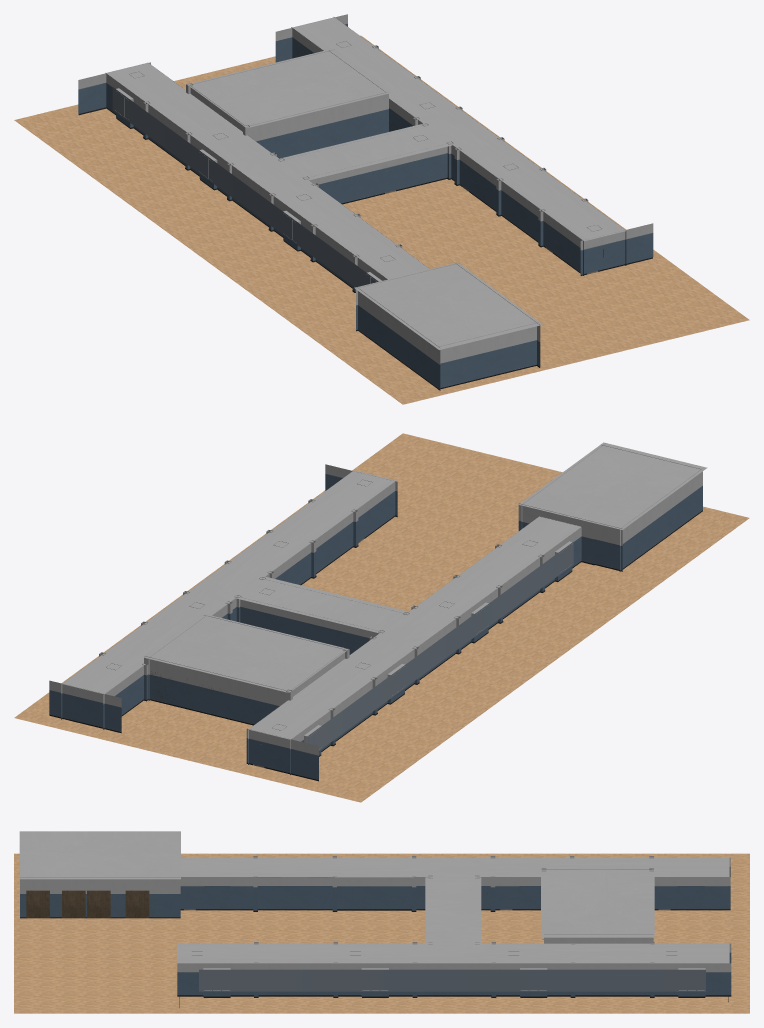
The model's file is SchoolFinal22.fbx.
3 renders of one model, top to bottom at view 1: azimuth 30°, elevation 25°; view 2: azimuth 150°, elevation 25°; view 3: azimuth 270°, elevation 25°, orthographic. The views are drawn at different scales.
Parts seen in each view (by area): view 1: Plane.006, Potolok, School; view 2: Plane.006, Potolok, School; view 3: Plane.006, Potolok, School.
Boxes of the visible parts, x1,y1,x2,y2 form: Plane.006: (14, 35, 749, 404); Potolok: (106, 17, 625, 349); School: (78, 14, 653, 390); Plane.006: (14, 433, 749, 802); Potolok: (63, 442, 707, 739); School: (49, 443, 702, 781); Plane.006: (14, 853, 749, 1013); Potolok: (19, 831, 729, 963); School: (20, 856, 731, 1007).
Bounding box in the file's own units: 88.11 × 10.81 × 171.
